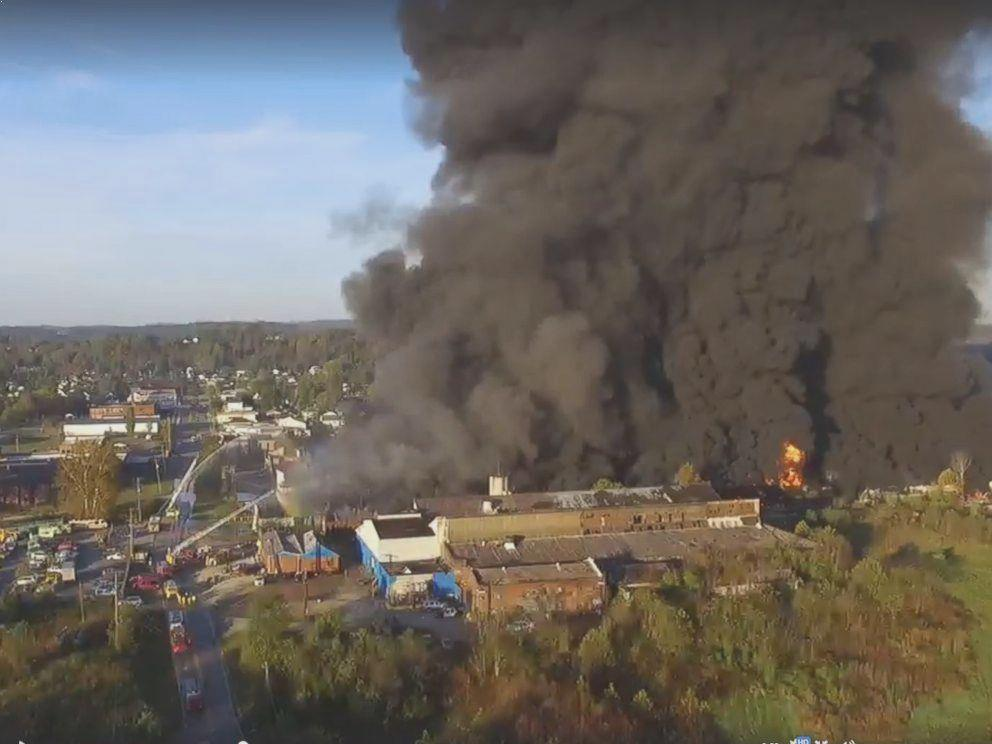smoke: (410, 7, 950, 467)
